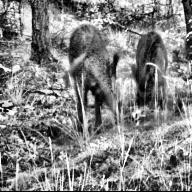boar: (67, 20, 122, 128), (129, 28, 181, 132)
